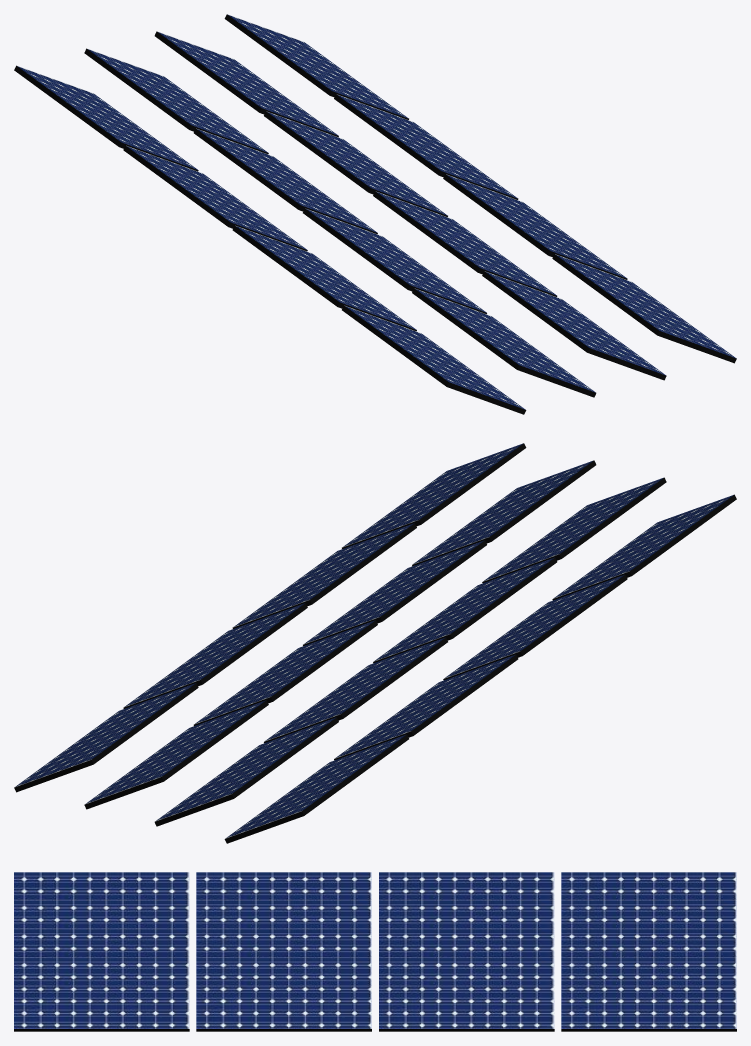
The model's file is solarpanels.FBX.
The picture shows the model from 3 angles, top to bottom: view 1: azimuth 30°, elevation 25°; view 2: azimuth 150°, elevation 25°; view 3: azimuth 270°, elevation 25°; orthographic projection. The views are drawn at different scales.
Parts seen in each view (by area): view 1: Box016, Box015, Box014, Box013, Box002, Box006, Box009, Box003, Box001, Box008, Box010, Box011 (+4 smaller); view 2: Box003, Box002, Box004, Box001, Box005, Box010, Box015, Box016, Box006, Box007, Box012, Box013 (+4 smaller); view 3: Box001, Box005, Box009, Box013, Box002, Box007, Box011, Box015, Box003, Box004, Box006, Box008 (+4 smaller).
Boxes of the visible parts, <box> form: Box016: <box>412,288,596,397</box>; Box015: <box>482,271,666,380</box>; Box014: <box>342,305,526,414</box>; Box013: <box>552,254,736,363</box>; Box002: <box>154,31,338,137</box>; Box006: <box>123,145,307,251</box>; Box009: <box>443,174,627,279</box>; Box003: <box>84,48,268,154</box>; Box001: <box>224,14,408,119</box>; Box008: <box>193,128,377,234</box>; Box010: <box>232,225,416,331</box>; Box011: <box>373,191,557,296</box>; Box003: <box>154,717,338,826</box>; Box002: <box>84,700,268,809</box>; Box004: <box>224,734,408,843</box>; Box001: <box>14,683,198,792</box>; Box005: <box>123,603,307,708</box>; Box010: <box>443,574,627,680</box>; Box015: <box>412,460,596,566</box>; Box016: <box>482,477,666,583</box>; Box006: <box>334,654,518,760</box>; Box007: <box>193,620,377,725</box>; Box012: <box>373,557,557,663</box>; Box013: <box>342,443,526,548</box>; Box001: <box>561,958,736,1031</box>; Box005: <box>379,958,554,1031</box>; Box009: <box>196,958,371,1031</box>; Box013: <box>14,958,189,1031</box>; Box002: <box>561,929,736,958</box>; Box007: <box>379,929,554,958</box>; Box011: <box>196,929,371,958</box>; Box015: <box>14,929,189,958</box>; Box003: <box>561,901,736,929</box>; Box004: <box>561,872,736,900</box>; Box006: <box>379,872,554,900</box>; Box008: <box>379,901,554,929</box>.
Size of the model in its own units: 24.69 by 4.14 by 63.73.
Materials: 2 (1 with a texture image).
